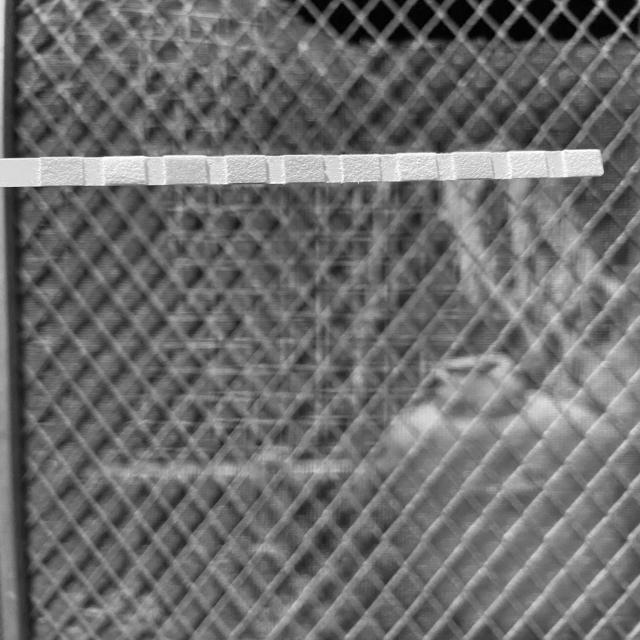Bilirubin: (104, 157, 146, 185)
Blood: (285, 155, 322, 182)
Glucose: (41, 158, 83, 185)
Ketone: (165, 156, 207, 184)
Leukocytes: (566, 150, 598, 175)
Nitrite: (510, 151, 546, 177)
Protein: (399, 153, 436, 180)
SpGravity: (227, 156, 265, 183)
Urobilinogen: (454, 152, 492, 178)
background: (0, 0, 640, 640)
pH: (343, 155, 381, 182)
strip: (0, 150, 605, 188)
